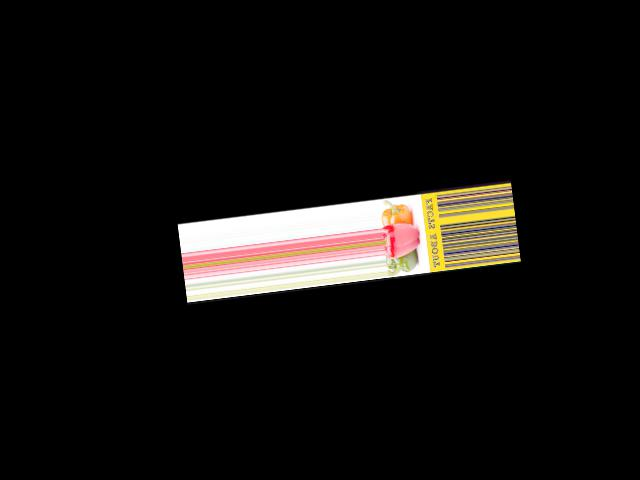bell_pepper: (386, 252, 424, 276)
